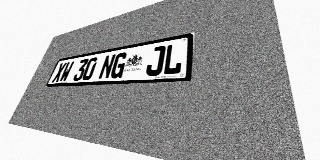0: (81, 57, 99, 81)
3: (72, 58, 89, 81)
G: (109, 52, 128, 79)
J: (145, 45, 166, 76)
L: (162, 42, 184, 75)
N: (98, 54, 116, 79)
W: (58, 61, 75, 82)
X: (51, 62, 67, 83)
